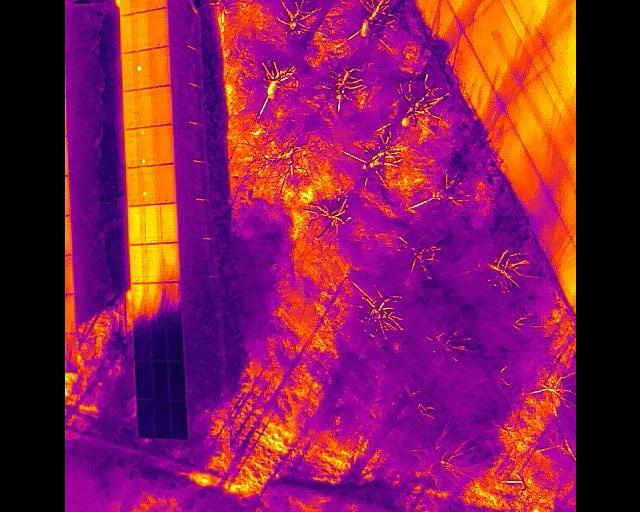Cell: (137, 50, 154, 88), (141, 167, 158, 205)
Cell-Multi: (140, 126, 156, 166)
No-Anomaly: (142, 205, 161, 244), (161, 244, 180, 282), (154, 86, 172, 125), (159, 204, 177, 243), (156, 126, 174, 165), (151, 8, 168, 48), (144, 244, 162, 281), (125, 166, 142, 205), (157, 165, 174, 204), (153, 46, 169, 87), (120, 15, 137, 53), (121, 53, 137, 92), (127, 206, 143, 245), (136, 12, 152, 51), (138, 89, 154, 128), (123, 92, 139, 129), (124, 128, 139, 167), (127, 246, 143, 282), (120, 0, 136, 14), (136, 0, 151, 12), (149, 0, 167, 10)
Shadowing: (163, 317, 182, 360), (168, 360, 186, 402), (146, 318, 163, 362), (161, 243, 180, 282), (150, 361, 168, 402), (132, 362, 150, 402), (168, 402, 186, 439), (151, 401, 169, 438), (161, 281, 179, 317), (144, 283, 162, 319), (130, 318, 145, 361), (136, 402, 150, 438), (130, 282, 143, 318)
